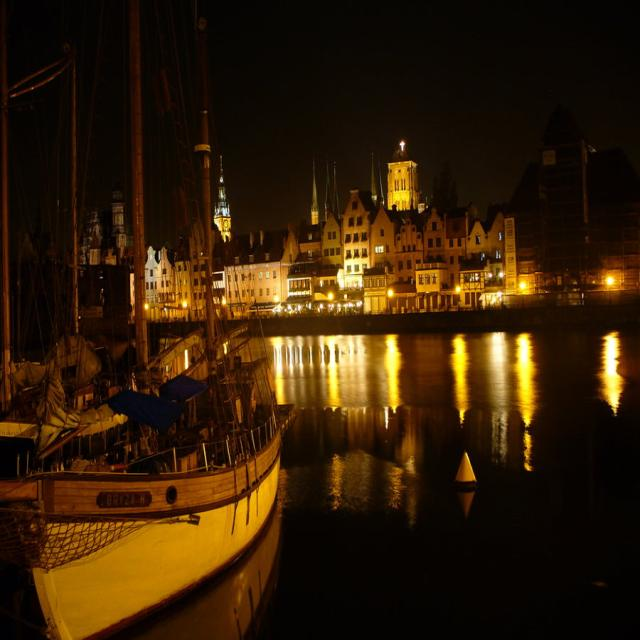Boat: (0, 34, 234, 563), (0, 341, 346, 638)
